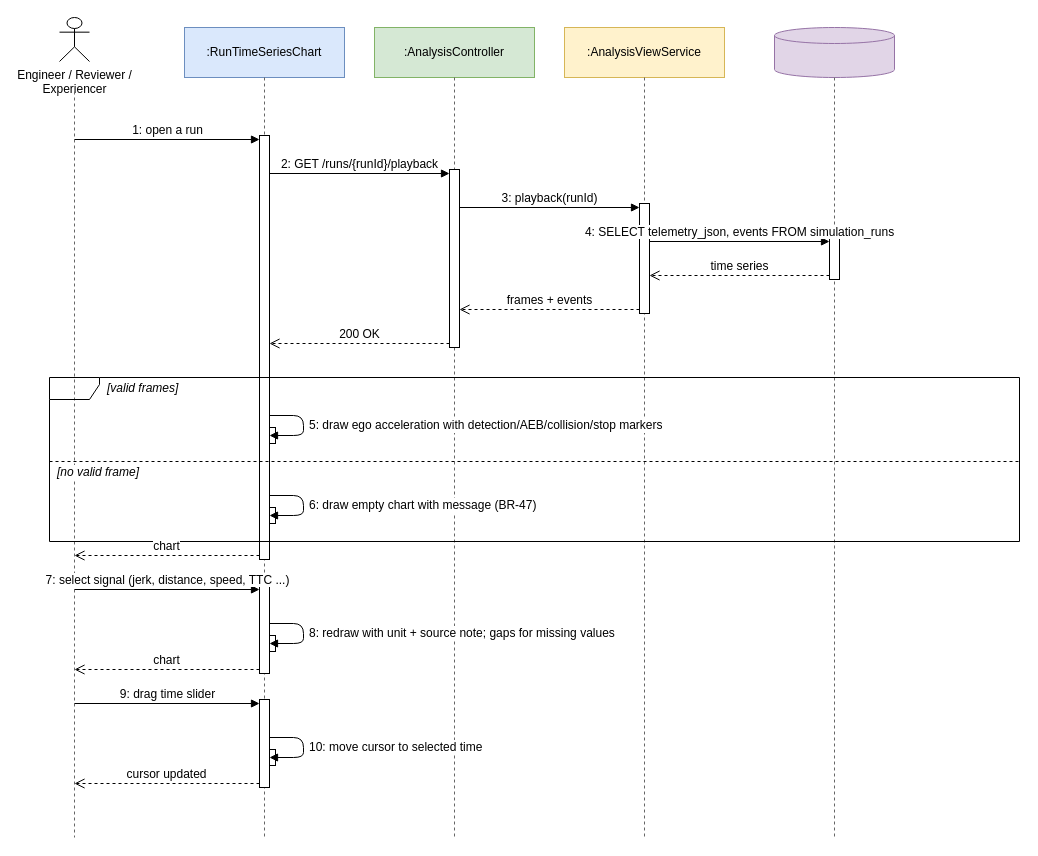
Image size: 1038x856. Some labels were removed from this diagram. Each missing label, with the box of its shape:
alt: (48, 376, 1020, 542)
MySQL: (774, 26, 894, 78)
